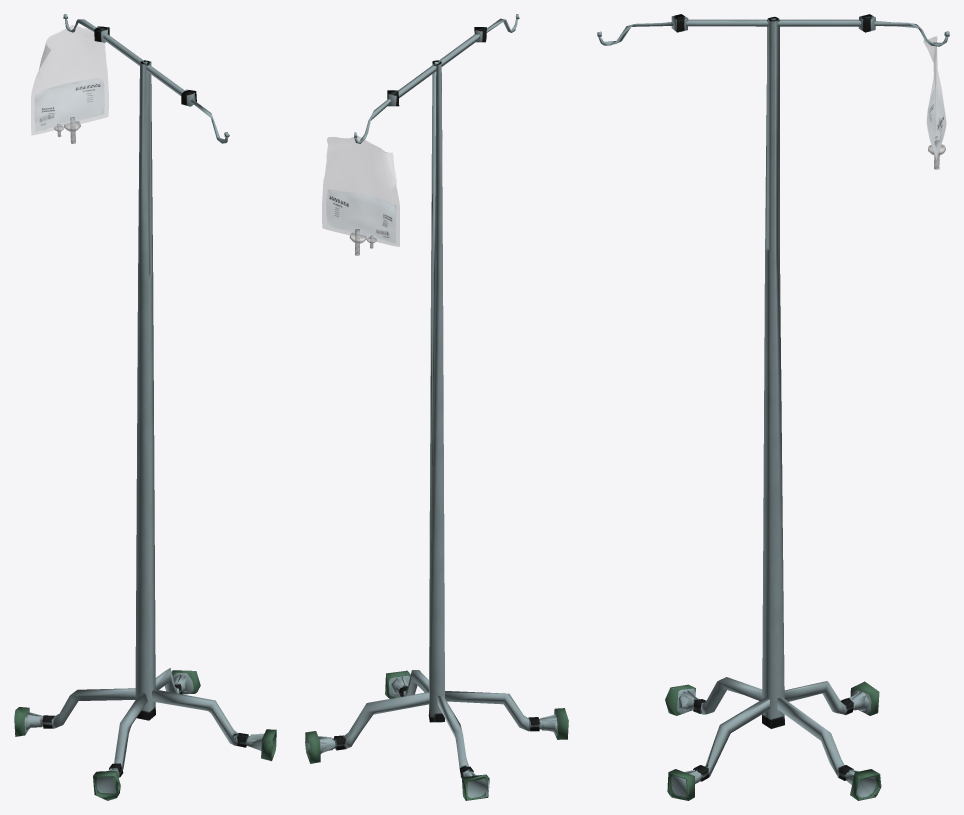
The picture shows the model from 3 angles, left to right: view 1: azimuth 30°, elevation 25°; view 2: azimuth 150°, elevation 25°; view 3: azimuth 270°, elevation 25°; orthographic projection. The views are drawn at different scales.
Visible parts, largest first — view 1: PM3D_Base_IVPole_copy1, PM3D_Base_IVPole_copy2, PM3D_Base_IVPole; view 2: PM3D_Base_IVPole_copy1, PM3D_Base_IVPole_copy2, PM3D_Base_IVPole; view 3: PM3D_Base_IVPole_copy1, PM3D_Base_IVPole_copy2.
Boxes of the visible parts, left/top/right/bottom form: PM3D_Base_IVPole_copy1: left=14, top=14, right=276, bottom=800; PM3D_Base_IVPole_copy2: left=31, top=25, right=108, bottom=134; PM3D_Base_IVPole: left=35, top=78, right=103, bottom=131; PM3D_Base_IVPole_copy1: left=305, top=14, right=568, bottom=800; PM3D_Base_IVPole_copy2: left=322, top=136, right=399, bottom=246; PM3D_Base_IVPole: left=327, top=190, right=395, bottom=242; PM3D_Base_IVPole_copy1: left=597, top=14, right=949, bottom=800; PM3D_Base_IVPole_copy2: left=923, top=36, right=945, bottom=160.
Size of the model in its own units: 499 by 1772 by 764.
4 materials, 3 textured.
